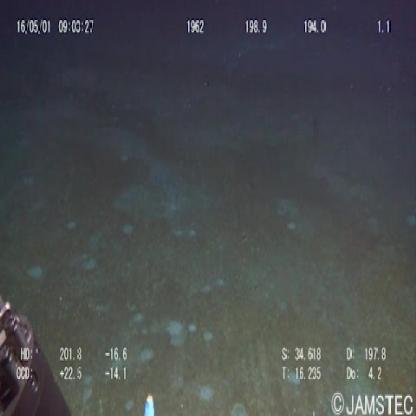Rov: (1, 291, 76, 416)
